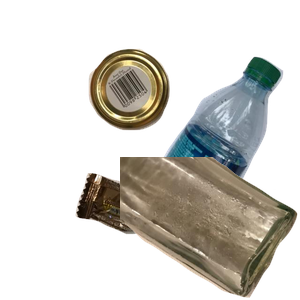glass: (120, 157, 300, 300)
metal: (86, 46, 248, 169)
plastic: (142, 54, 300, 234)
trash: (73, 171, 242, 300)
